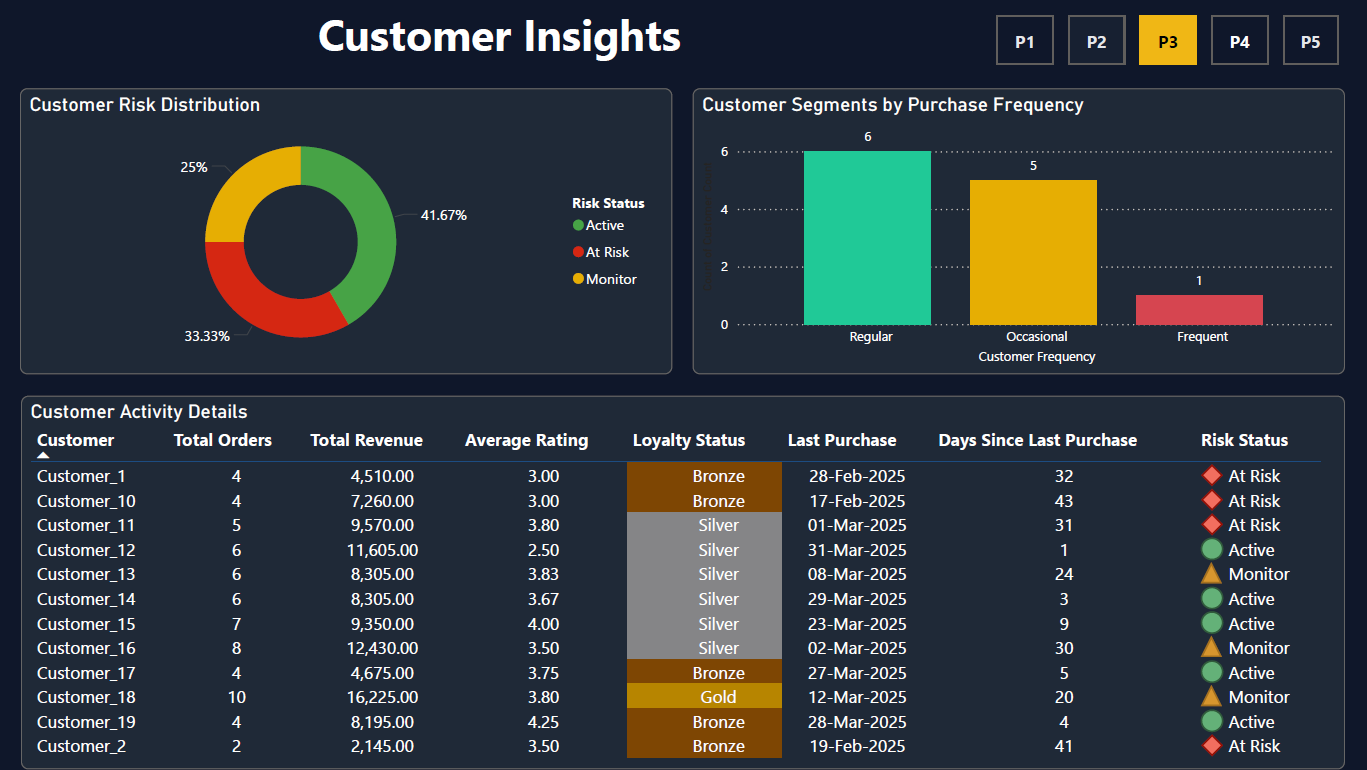

The dashboard page shown, as its layout file describes it:
{"tool":"powerbi","page":{"name":"Page 3","canvas":[1280,720],"ordinal":2},"visuals":[{"type":"donutChart","title":"Customer Risk Distribution","fields":{"Category":["customers.Risk Status"],"Y":["Count(customers.customer_id)"]},"box":[19.1,82.4,610.8,268],"z":0},{"type":"clusteredColumnChart","title":"Customer Segments by Purchase Frequency","fields":{"Y":["CountNonNull(customers.Customer Count)"],"Category":["customers.Customer Segment"]},"box":[649,82.4,610.8,268],"z":1000},{"type":"tableEx","title":"Customer Activity Details","fields":{"Values":["customers.customer_name","MeasureTable.Total Orders","MeasureTable.Total Revenue","MeasureTable.Average Rating","customers.Loyalty Tier","customers.Last Purchase Display","Sum(customers.Days Since Last Purchase)","customers.Risk Status"]},"box":[19.7,370.1,1240.7,350],"z":2000},{"type":"shape","box":[298.3,3.3,380,55],"z":3000},{"type":"group","id":"g1","title":"Group 2","box":[934,14.3,320,45],"z":4000},{"type":"actionButton","title":"P1","box":[1068.1,14.4,52.5,45.9],"z":9000,"group":"g1"},{"type":"actionButton","title":"P1","box":[1135,14.3,52.5,45.9],"z":10000,"group":"g1"},{"type":"actionButton","title":"P1","box":[1201.9,14.3,52.5,45.9],"z":11000,"group":"g1"},{"type":"actionButton","title":"P1","box":[1001.1,14.4,52.5,45.9],"z":12000,"group":"g1"},{"type":"actionButton","title":"P1","box":[934,14.4,52.5,45.9],"z":13000,"group":"g1"}]}

Visuals, with their boxes in screenshot pixels (x1, y1, x2, y2), scaled from the page's 1280x720 canvas onto the 1367x770 screenshot:
"Customer Risk Distribution" donutChart: pyautogui.locateOnScreen(20, 88, 673, 375)
"Customer Segments by Purchase Frequency" clusteredColumnChart: pyautogui.locateOnScreen(693, 88, 1345, 375)
"Customer Activity Details" tableEx: pyautogui.locateOnScreen(21, 396, 1346, 769)
shape: pyautogui.locateOnScreen(319, 4, 724, 62)
"Group 2" group: pyautogui.locateOnScreen(997, 15, 1339, 63)
"P1" actionButton: pyautogui.locateOnScreen(1141, 15, 1197, 64)
"P1" actionButton: pyautogui.locateOnScreen(1212, 15, 1268, 64)
"P1" actionButton: pyautogui.locateOnScreen(1284, 15, 1340, 64)
"P1" actionButton: pyautogui.locateOnScreen(1069, 15, 1125, 64)
"P1" actionButton: pyautogui.locateOnScreen(997, 15, 1054, 64)
